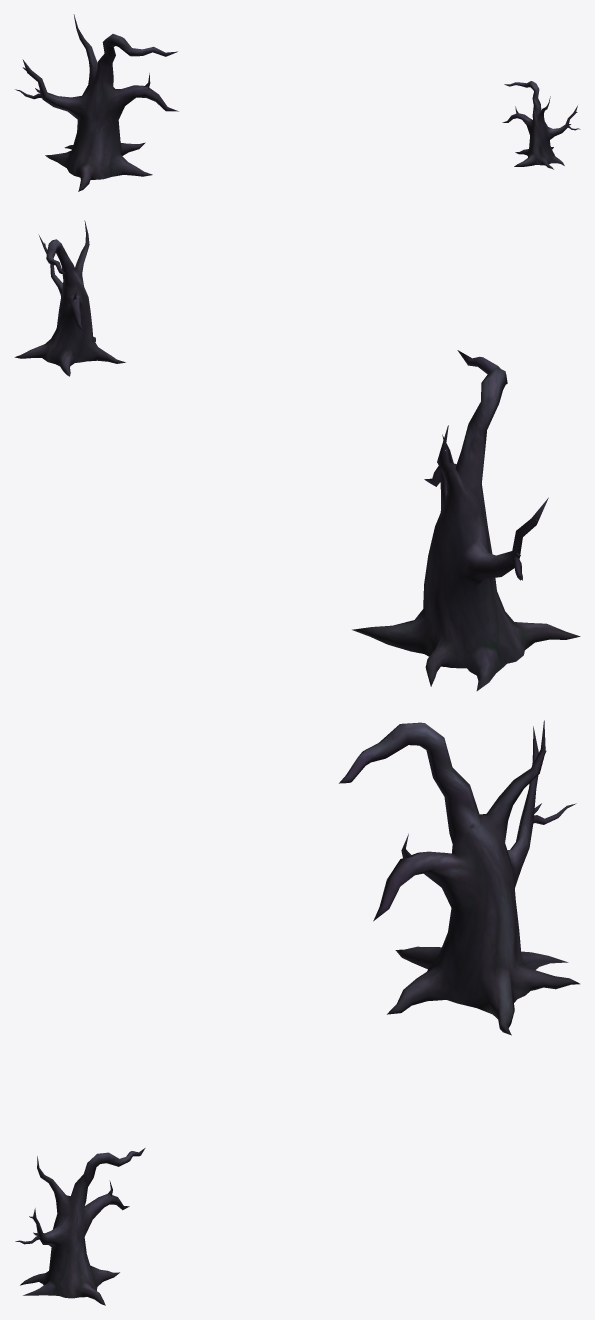
The model's file is Area10_8.fbx.
3 renders of one model, top to bottom at view 1: azimuth 30°, elevation 25°; view 2: azimuth 150°, elevation 25°; view 3: azimuth 270°, elevation 25°, orthographic. The views are drawn at different scales.
Visible parts, largest first — view 1: Area10_8; view 2: Area10_8; view 3: Area10_8.
Part boxes in pixels (x1,y1,x2,y2): Area10_8: [15, 14, 580, 191]; Area10_8: [14, 220, 580, 690]; Area10_8: [15, 720, 579, 1305].
Size of the model in its own units: 3730 by 1217 by 2317.
